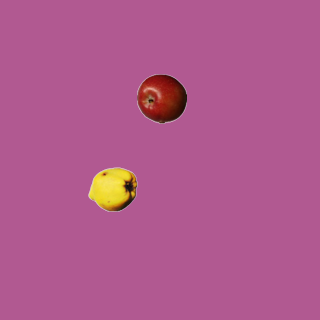Apple Braeburn: (136, 73, 186, 123)
Quince: (87, 164, 137, 214)
